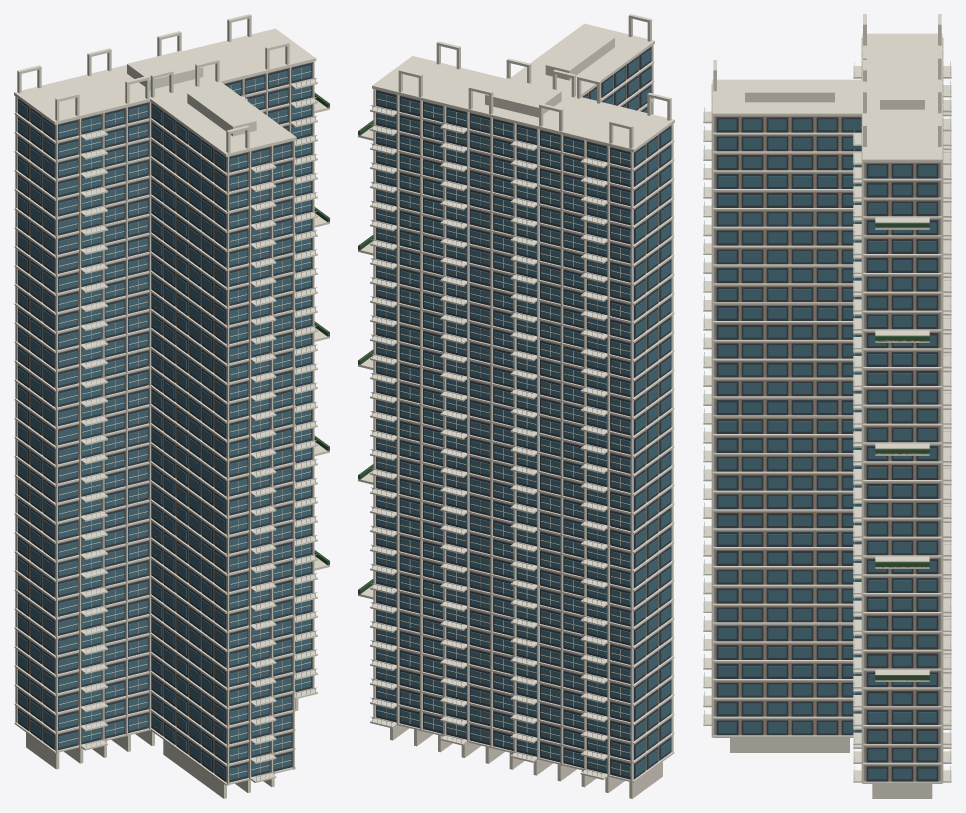
The model's file is tower-c.glb.
3 views of the same model, side by side, from view 1: azimuth 30°, elevation 25°; view 2: azimuth 150°, elevation 25°; view 3: azimuth 270°, elevation 25° (orthographic).
Visible parts, largest first — view 1: glass, ivory, dark, sand, rail; view 2: ivory, glass, dark, sand, rail; view 3: ivory, glass, dark, sand, leaf, rail.
Part boxes in pixels (x1=…): glass: x1=18, y1=65, x2=310, y2=779; ivory: x1=14, y1=14, x2=329, y2=798; dark: x1=18, y1=63, x2=311, y2=782; sand: x1=17, y1=62, x2=311, y2=782; rail: x1=85, y1=77, x2=317, y2=780; ivory: x1=358, y1=14, x2=674, y2=798; glass: x1=377, y1=49, x2=670, y2=776; dark: x1=376, y1=47, x2=670, y2=779; sand: x1=376, y1=55, x2=670, y2=779; rail: x1=370, y1=105, x2=603, y2=777; ivory: x1=703, y1=14, x2=951, y2=798; glass: x1=718, y1=119, x2=936, y2=779; dark: x1=714, y1=116, x2=940, y2=781; sand: x1=715, y1=116, x2=939, y2=781; leaf: x1=875, y1=222, x2=929, y2=680; rail: x1=704, y1=61, x2=950, y2=779.
Bounding box in the file's own units: 47.2 × 108 × 36.41.
